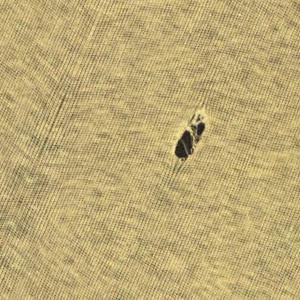hole: (172, 110, 209, 166)
